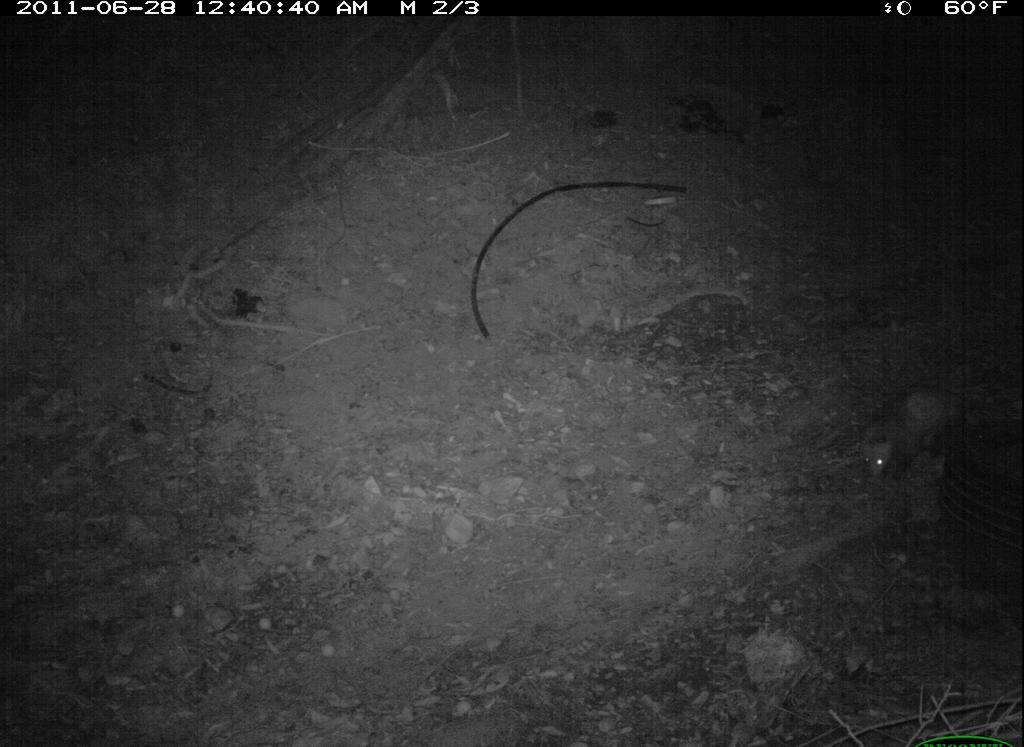opossum: (843, 374, 1003, 493)
